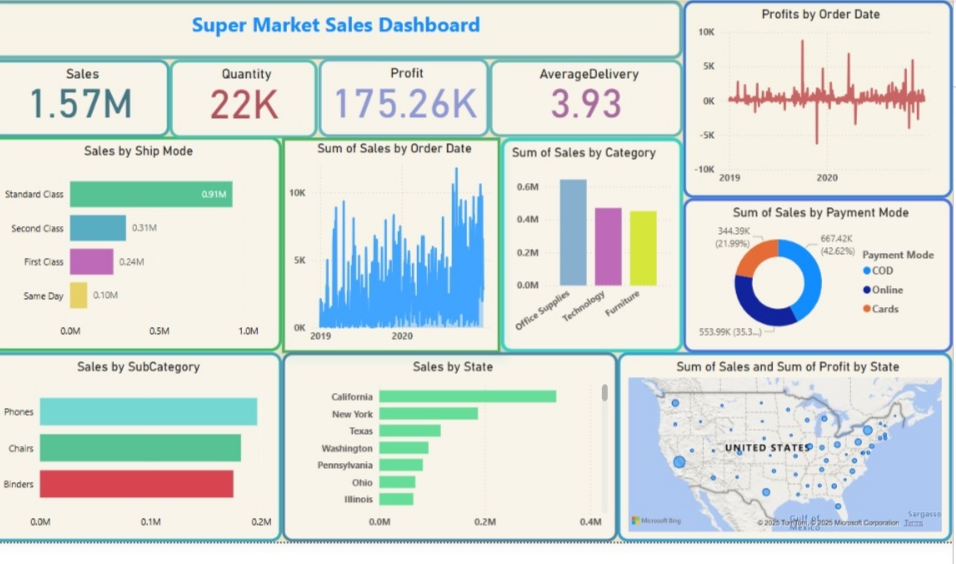

This screenshot's page, from the dashboard's own definition file:
{"tool":"powerbi","page":{"name":"Page 1","canvas":[1280,720],"ordinal":0},"visuals":[{"type":"barChart","title":"Sales by SubCategory","fields":{"Y":["SuperStore_Sales_Dataset.Sales"],"Category":["SuperStore_Sales_Dataset.Sub-Category"]},"box":[0,467.2,388.6,252.2],"z":1},{"type":"barChart","title":"Sales by Ship Mode","fields":{"Y":["SuperStore_Sales_Dataset.Sales"],"Category":["SuperStore_Sales_Dataset.Ship Mode"]},"box":[0,181.9,388.6,285.3],"z":2},{"type":"areaChart","title":"Profits by Order Date","fields":{"Category":["SuperStore_Sales_Dataset.Order Date"],"Y":["SuperStore_Sales_Dataset.Profit"]},"box":[922,0,358.3,263.2],"z":5},{"type":"map","fields":{"Category":["SuperStore_Sales_Dataset.State"],"Size":["SuperStore_Sales_Dataset.Sales"]},"box":[835.1,467.2,445.1,252.2],"z":6},{"type":"donutChart","fields":{"Y":["SuperStore_Sales_Dataset.Sales"],"Category":["SuperStore_Sales_Dataset.Payment Mode"]},"box":[922,263.2,358.3,205.3],"z":7},{"type":"textbox","box":[0,0,921.7,78.3],"z":9},{"type":"card","title":"Sales","fields":{"Values":["SuperStore_Sales_Dataset.Sales"]},"box":[0,78.6,239.8,103.4],"z":10},{"type":"card","title":"Quantity","fields":{"Values":["SuperStore_Sales_Dataset.Quantity"]},"box":[239.8,78.6,197.1,104.7],"z":11},{"type":"card","title":"Profit","fields":{"Values":["SuperStore_Sales_Dataset.Profit"]},"box":[436.9,77.2,227.4,104.7],"z":12},{"type":"card","title":"AverageDelivery","fields":{"Values":["SuperStore_Sales_Dataset.AverageDayDelivery"]},"box":[664.3,78.6,257.7,103.4],"z":13},{"type":"stackedAreaChart","fields":{"Category":["SuperStore_Sales_Dataset.Order Date"],"Y":["SuperStore_Sales_Dataset.Sales"]},"box":[388.6,183.3,290.8,286.7],"z":14},{"type":"columnChart","fields":{"Y":["SuperStore_Sales_Dataset.Sales"],"Category":["SuperStore_Sales_Dataset.Category"]},"box":[679.4,183.3,242.6,285.3],"z":15},{"type":"clusteredBarChart","title":" Sales by State","fields":{"Category":["SuperStore_Sales_Dataset.State"],"Y":["SuperStore_Sales_Dataset.Sales"]},"box":[388.6,467.2,446.5,252.2],"z":16}]}

Visuals, with their boxes in screenshot pixels (x1, y1, x2, y2):
"Sales by SubCategory" barChart: crop(0, 352, 274, 544)
"Sales by Ship Mode" barChart: crop(0, 134, 274, 352)
"Profits by Order Date" areaChart: crop(682, 0, 955, 196)
map - SuperStore_Sales_Dataset.State x SuperStore_Sales_Dataset.Sales: crop(615, 352, 955, 544)
donutChart - SuperStore_Sales_Dataset.Sales x SuperStore_Sales_Dataset.Payment Mode: crop(682, 196, 955, 353)
textbox: crop(0, 0, 681, 55)
"Sales" card: crop(0, 55, 161, 134)
"Quantity" card: crop(161, 55, 311, 135)
"Profit" card: crop(311, 54, 485, 134)
"AverageDelivery" card: crop(485, 55, 682, 134)
stackedAreaChart - SuperStore_Sales_Dataset.Order Date x SuperStore_Sales_Dataset.Sales: crop(274, 135, 496, 354)
columnChart - SuperStore_Sales_Dataset.Sales x SuperStore_Sales_Dataset.Category: crop(496, 135, 682, 353)
" Sales by State" clusteredBarChart: crop(274, 352, 615, 544)
